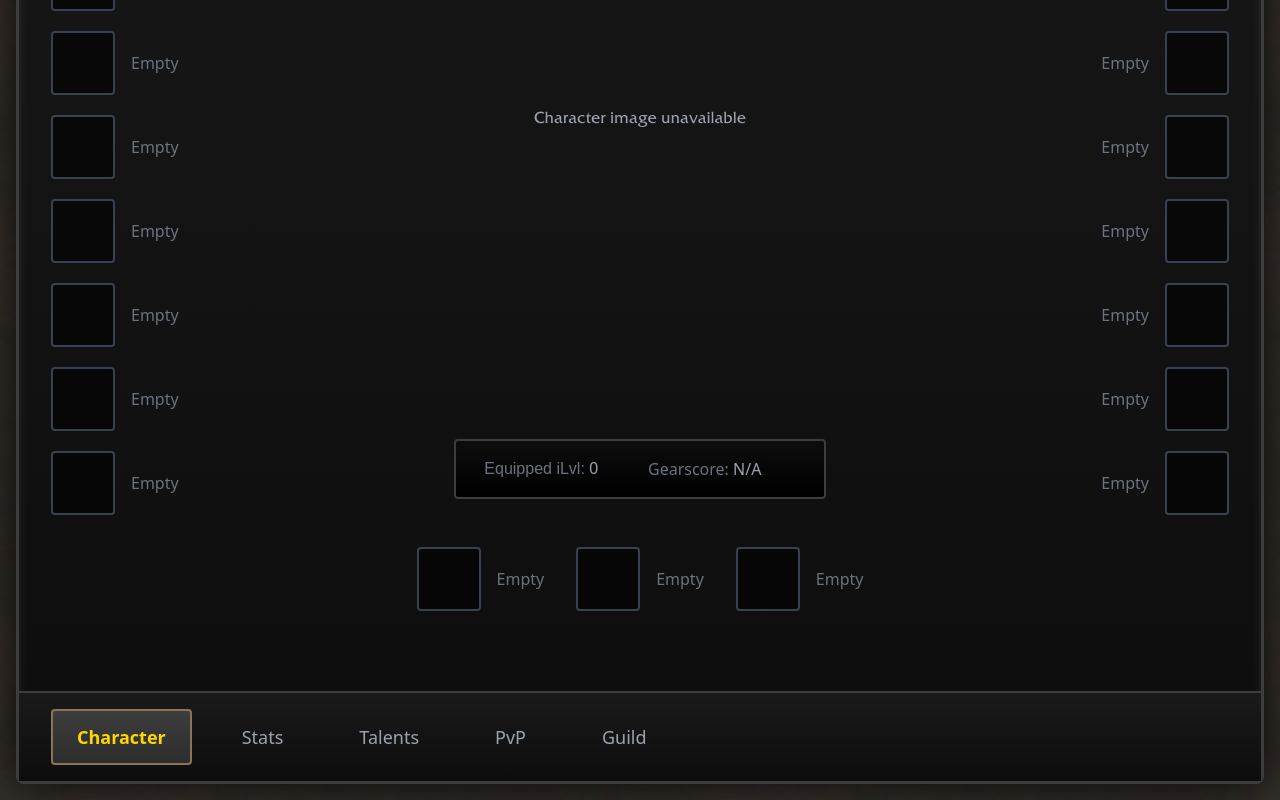
Test: shows a warning and keeps race IDs when race lookup fails
This screenshot has width=1280, height=800.
(page scrolled)
Click the button "Guild". click: (624, 737)
box: [576,709,673,765]
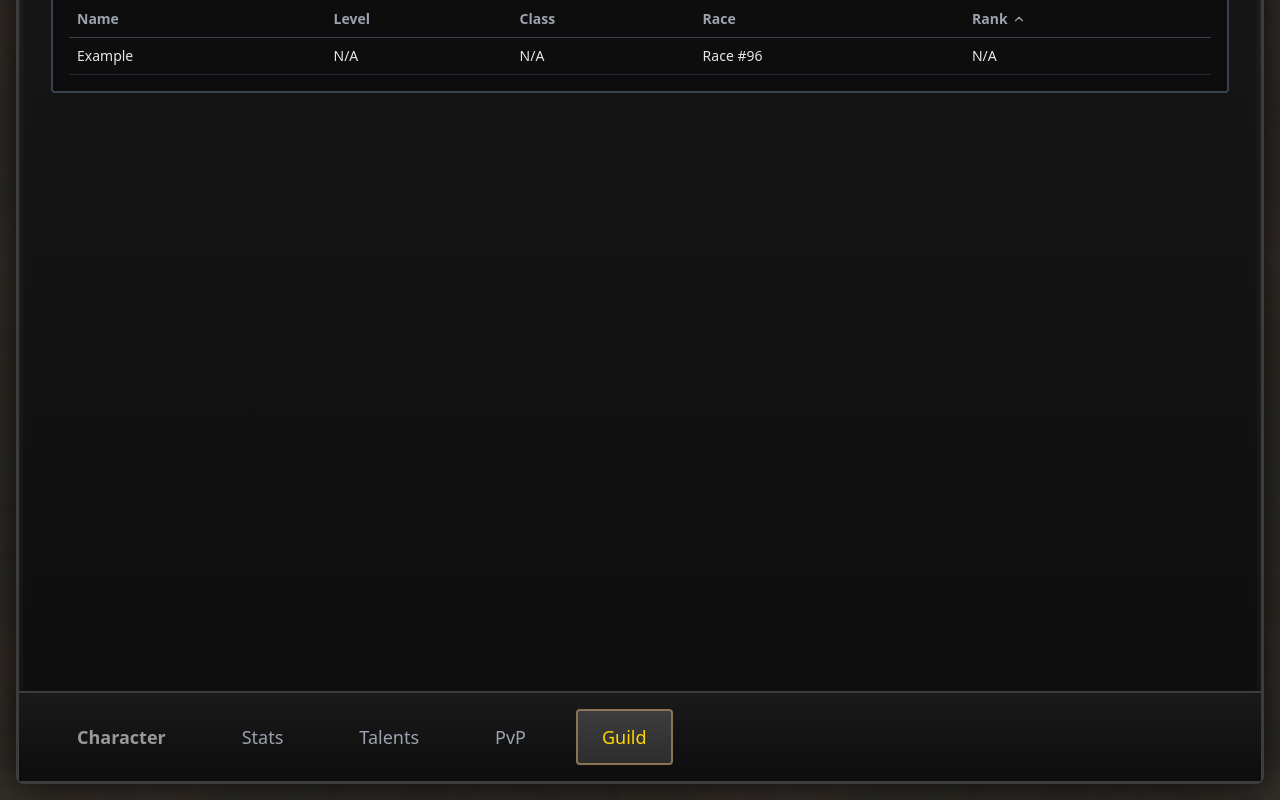
Expected: the text "Race #96" is shown, [695,38,964,74]
